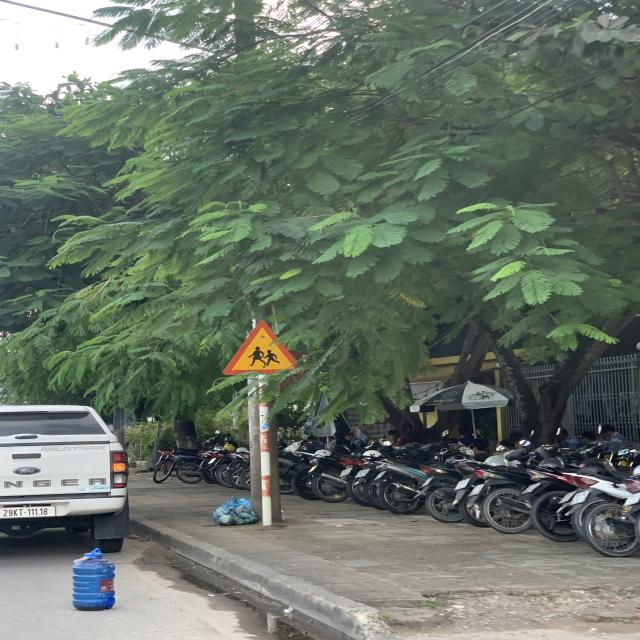Vong_Xuyen: (226, 321, 298, 374)
